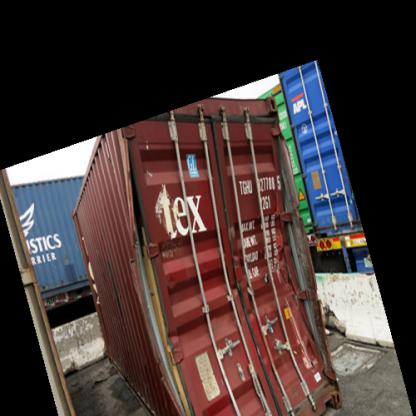Damage: (122, 214, 188, 394)
